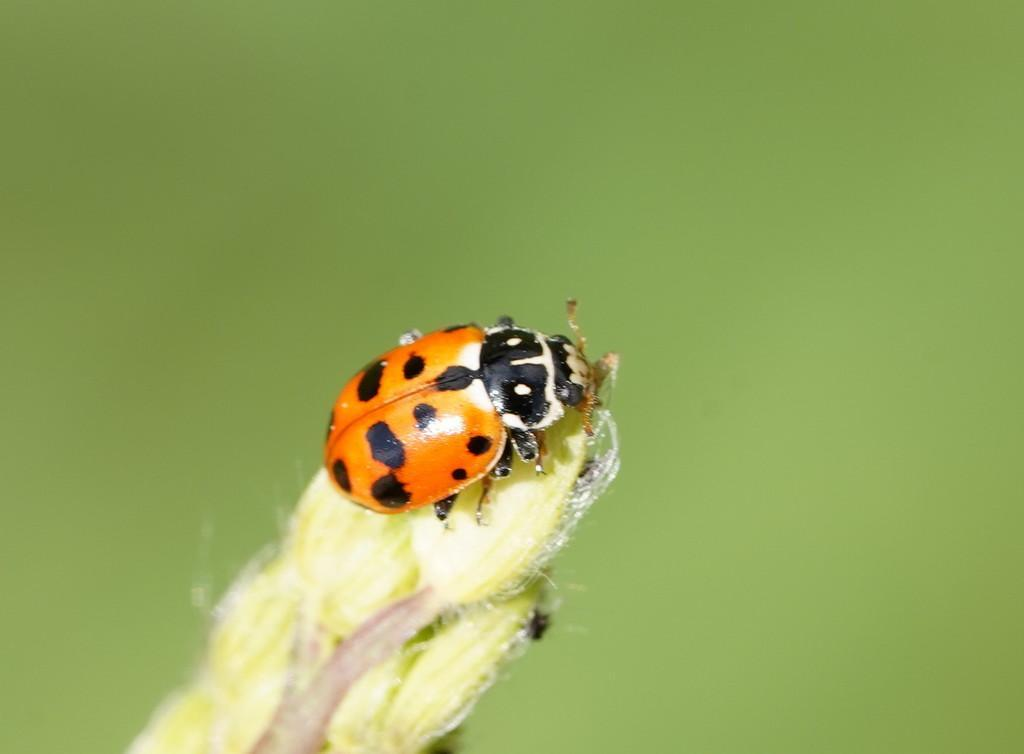ladybug: (327, 295, 613, 531)
